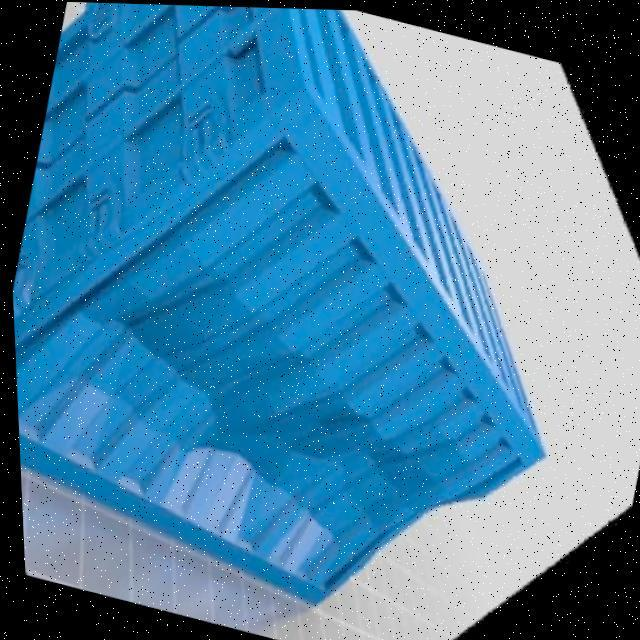dent: (13, 97, 548, 611)
